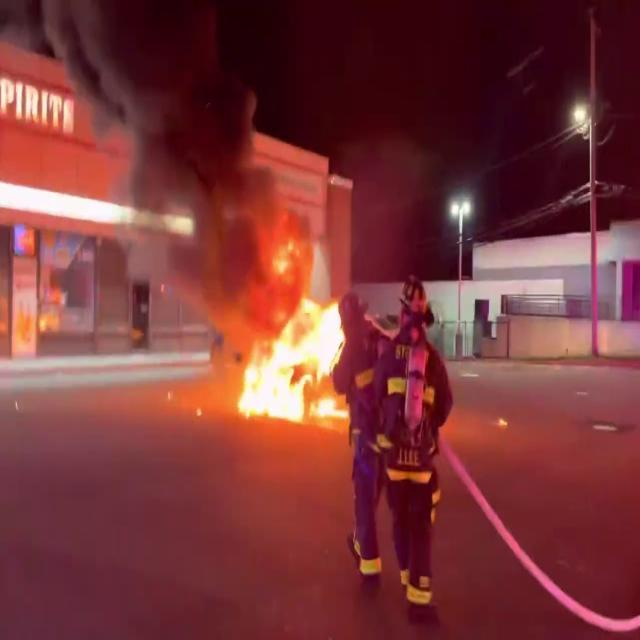Fire: (228, 247, 355, 423)
Smoke: (98, 0, 288, 246)
